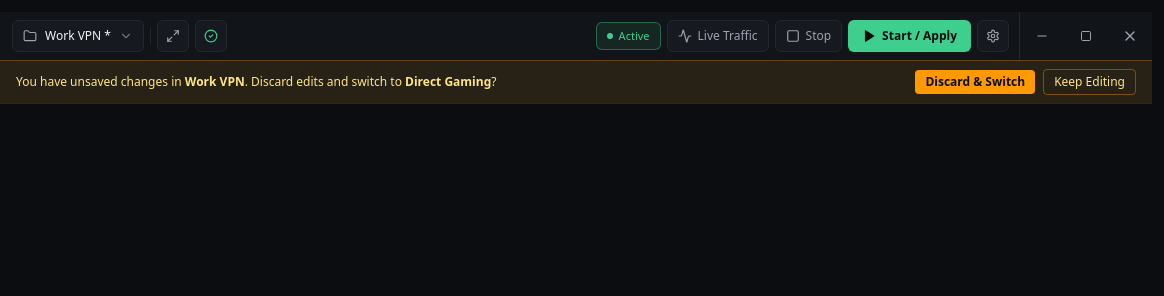
Scenario: TopBar › closes workflow dropdown when pendingDiscard or blocked-delete banners trigger
Earlier steps of the test are not shown.
expect the text "Discard edits and switch to" is shown: met, box [251,73,405,90]
Click the button "Keep Editing" at coordinates (1090, 82), box [1043,69,1136,95]
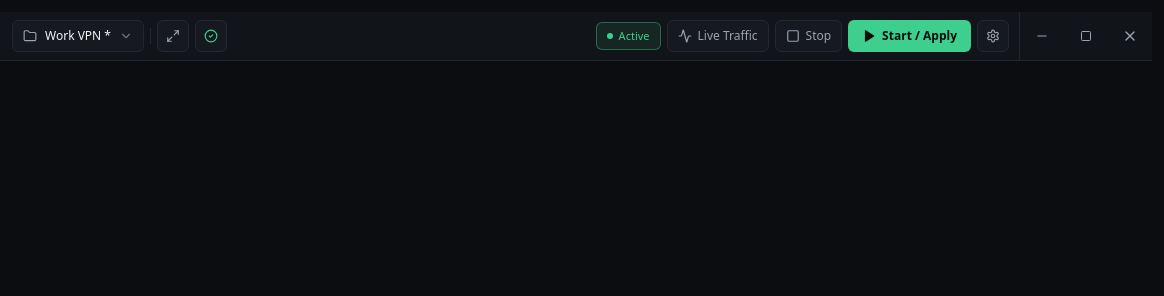
Guarded switchAndApplyWorkflow closes dropdown when showing pendingDiscard
Click the button with aria-label "Workflow Switcher" at coordinates (78, 36), box [12,20,144,52]
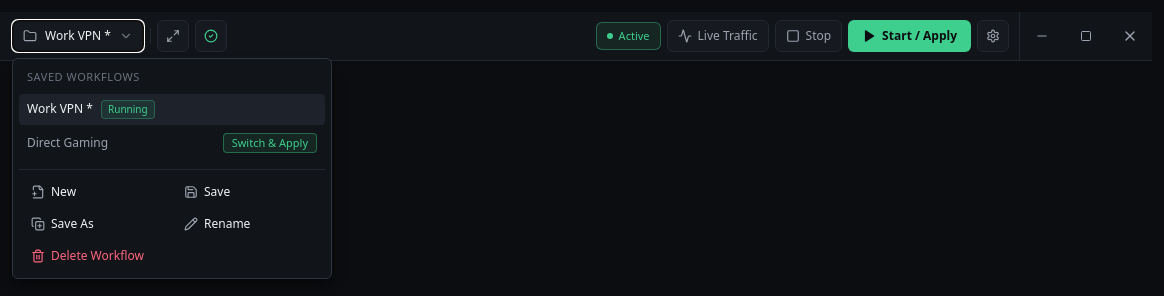
expect the menu is shown: met, box [12,58,332,280]
Click the button "Switch & Apply" at coordinates (270, 143), box [223,133,317,154]
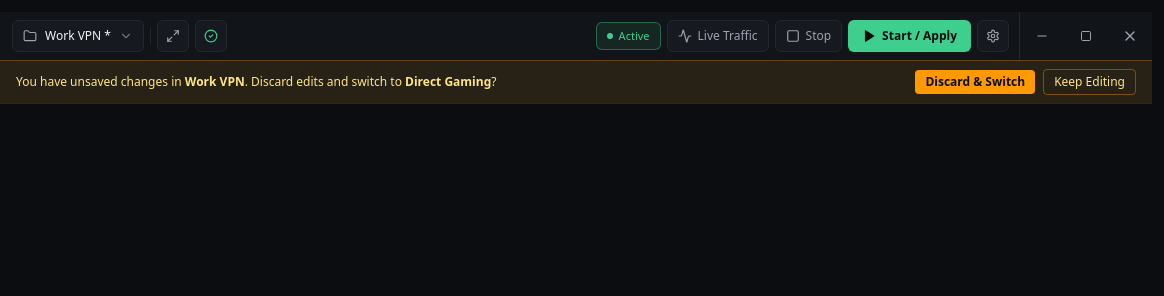
expect the menu is gone: met
expect the text "Discard edits and switch to" is shown: met, box [251,73,405,90]
Click the button "Keep Editing" at coordinates (1090, 82), box [1043,69,1136,95]
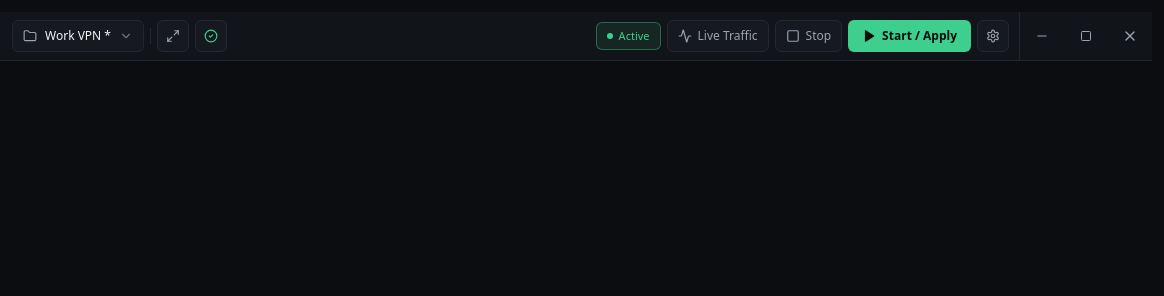
Blocked deleteWorkflow on active workflow closes dropdown when showing error banner
Click the button with aria-label "Workflow Switcher" at coordinates (78, 36), box [12,20,144,52]
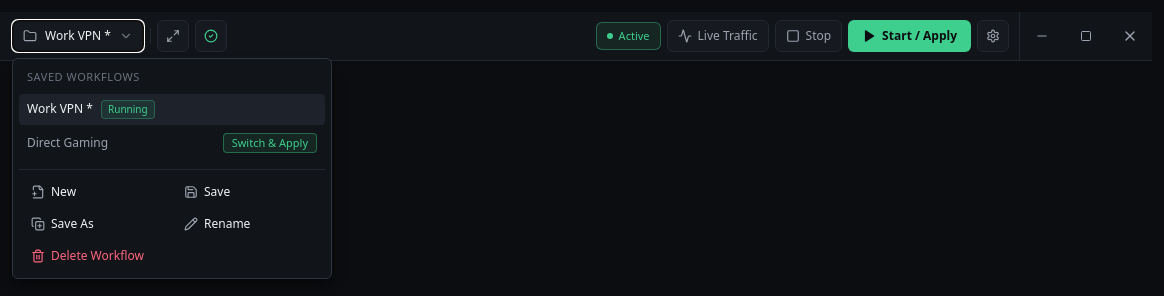
expect the menu is shown: met, box [12,58,332,280]
Click the button "Delete Workflow" at coordinates (97, 256), box [21,242,323,270]
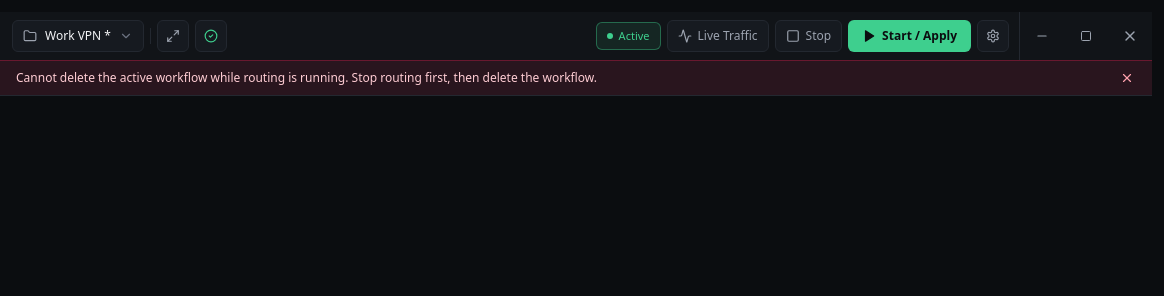
expect the menu is gone: met
expect the text "Cannot delete the active workflow while routing is running" is shown: met, box [16,69,597,86]
